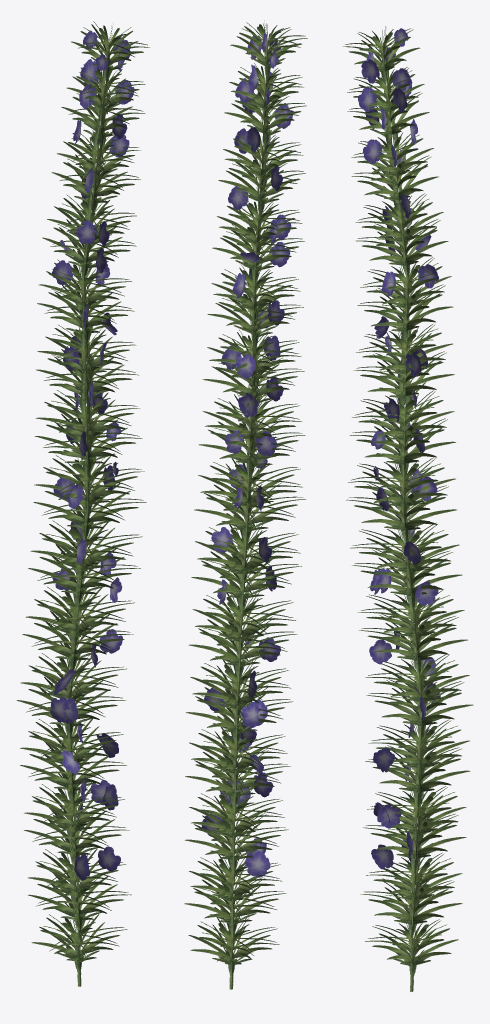
The model's file is Model_Plant_19.fbx.
3 renders of one model, left to right at view 1: azimuth 90°, elevation 25°; view 2: azimuth 150°, elevation 25°; view 3: azimuth 270°, elevation 25°, orthographic. The views are drawn at different scales.
Parts seen in each view (by area): view 1: rosemary_a_; view 2: rosemary_a_; view 3: rosemary_a_.
Boxes of the visible parts, bbox=[...] form: rosemary_a_: bbox=[16, 21, 149, 986]; rosemary_a_: bbox=[184, 20, 307, 989]; rosemary_a_: bbox=[343, 26, 473, 991].
Size of the model in its own units: 10.02 by 83.61 by 10.84.
